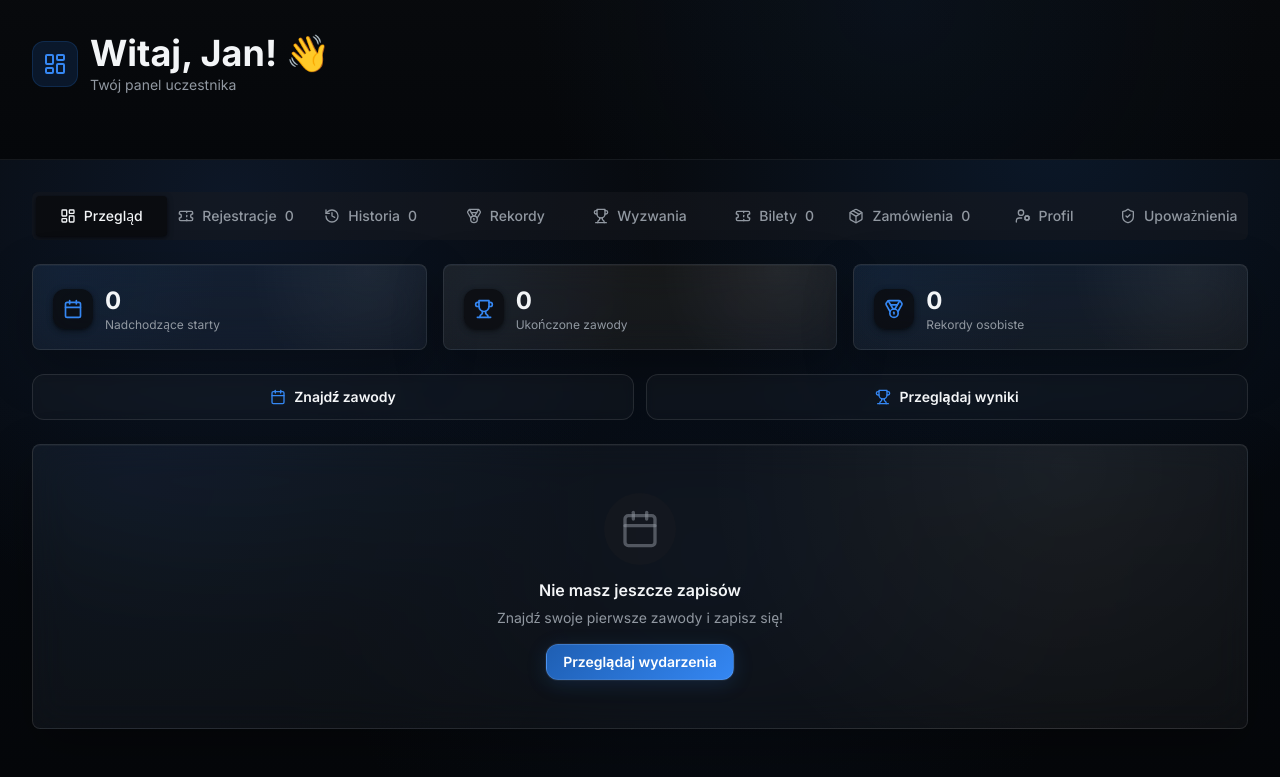
it: ParticipantDashboard tabs › renders the profile panel when the Profil tab is clicked
The width and height of the screenshot is (1280, 777).
Click the tab "Profil" at (1044, 216), box [979, 196, 1109, 236]
(page scrolled)
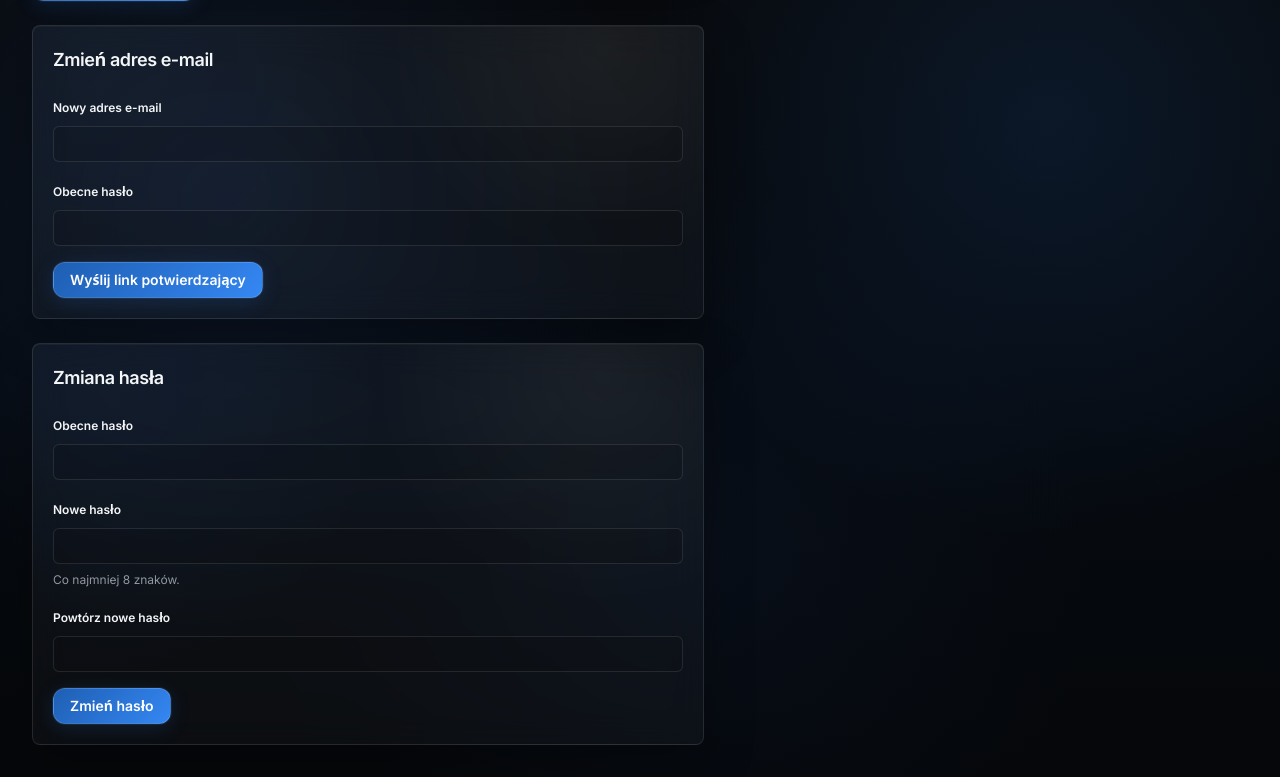
Now the heading "Zmiana hasła" is shown, box [53, 367, 164, 388]
